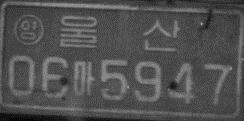0: (7, 55, 36, 99)
4: (167, 63, 198, 103)
5: (99, 59, 128, 102)
6: (40, 56, 68, 99)
7: (202, 62, 231, 105)
9: (134, 61, 161, 103)
마: (72, 60, 96, 97)
영: (12, 13, 44, 47)
울산_D: (58, 14, 180, 51)
